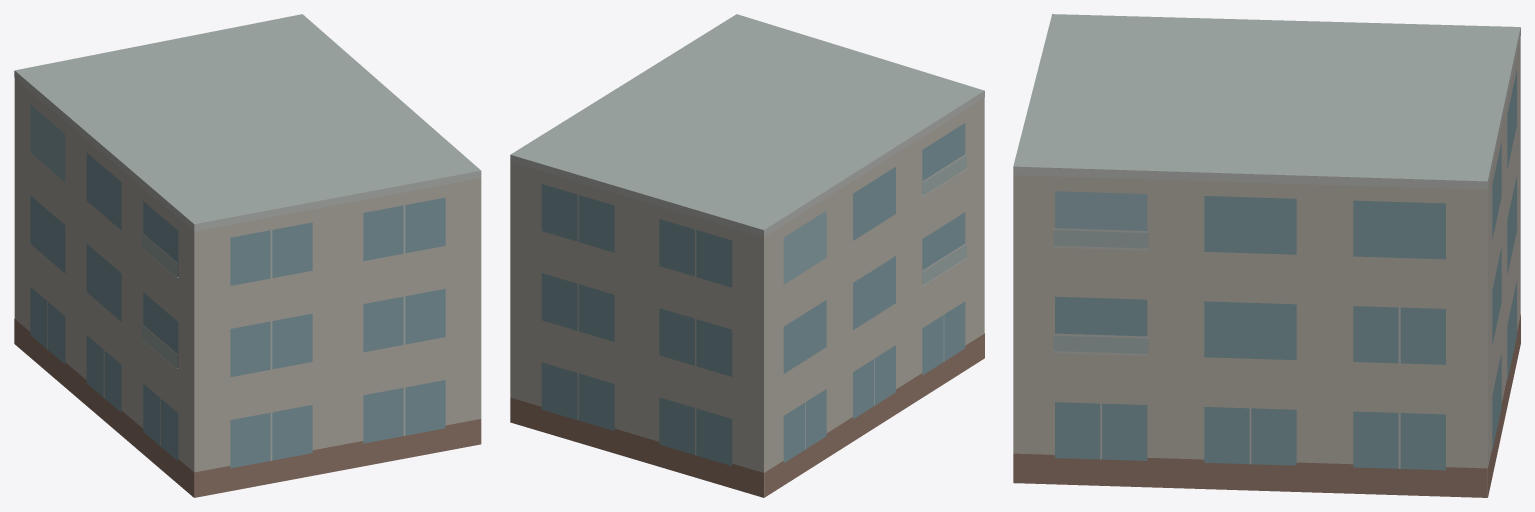
The model's file is survey-upis-32599749.glb.
3 renders of one model, left to right at view 1: azimuth 30°, elevation 25°; view 2: azimuth 150°, elevation 25°; view 3: azimuth 270°, elevation 25°, orthographic. The views are drawn at different scales.
Parts seen in each view (by area): view 1: survey-upis-32599749.tmp; view 2: survey-upis-32599749.tmp; view 3: survey-upis-32599749.tmp.
Boxes of the visible parts, x1,y1,x2,y2 form: survey-upis-32599749.tmp: (14,14,481,497); survey-upis-32599749.tmp: (510,14,984,497); survey-upis-32599749.tmp: (1013,14,1520,497).
Bounding box in the file's own units: 10.39 × 9.15 × 13.31.
